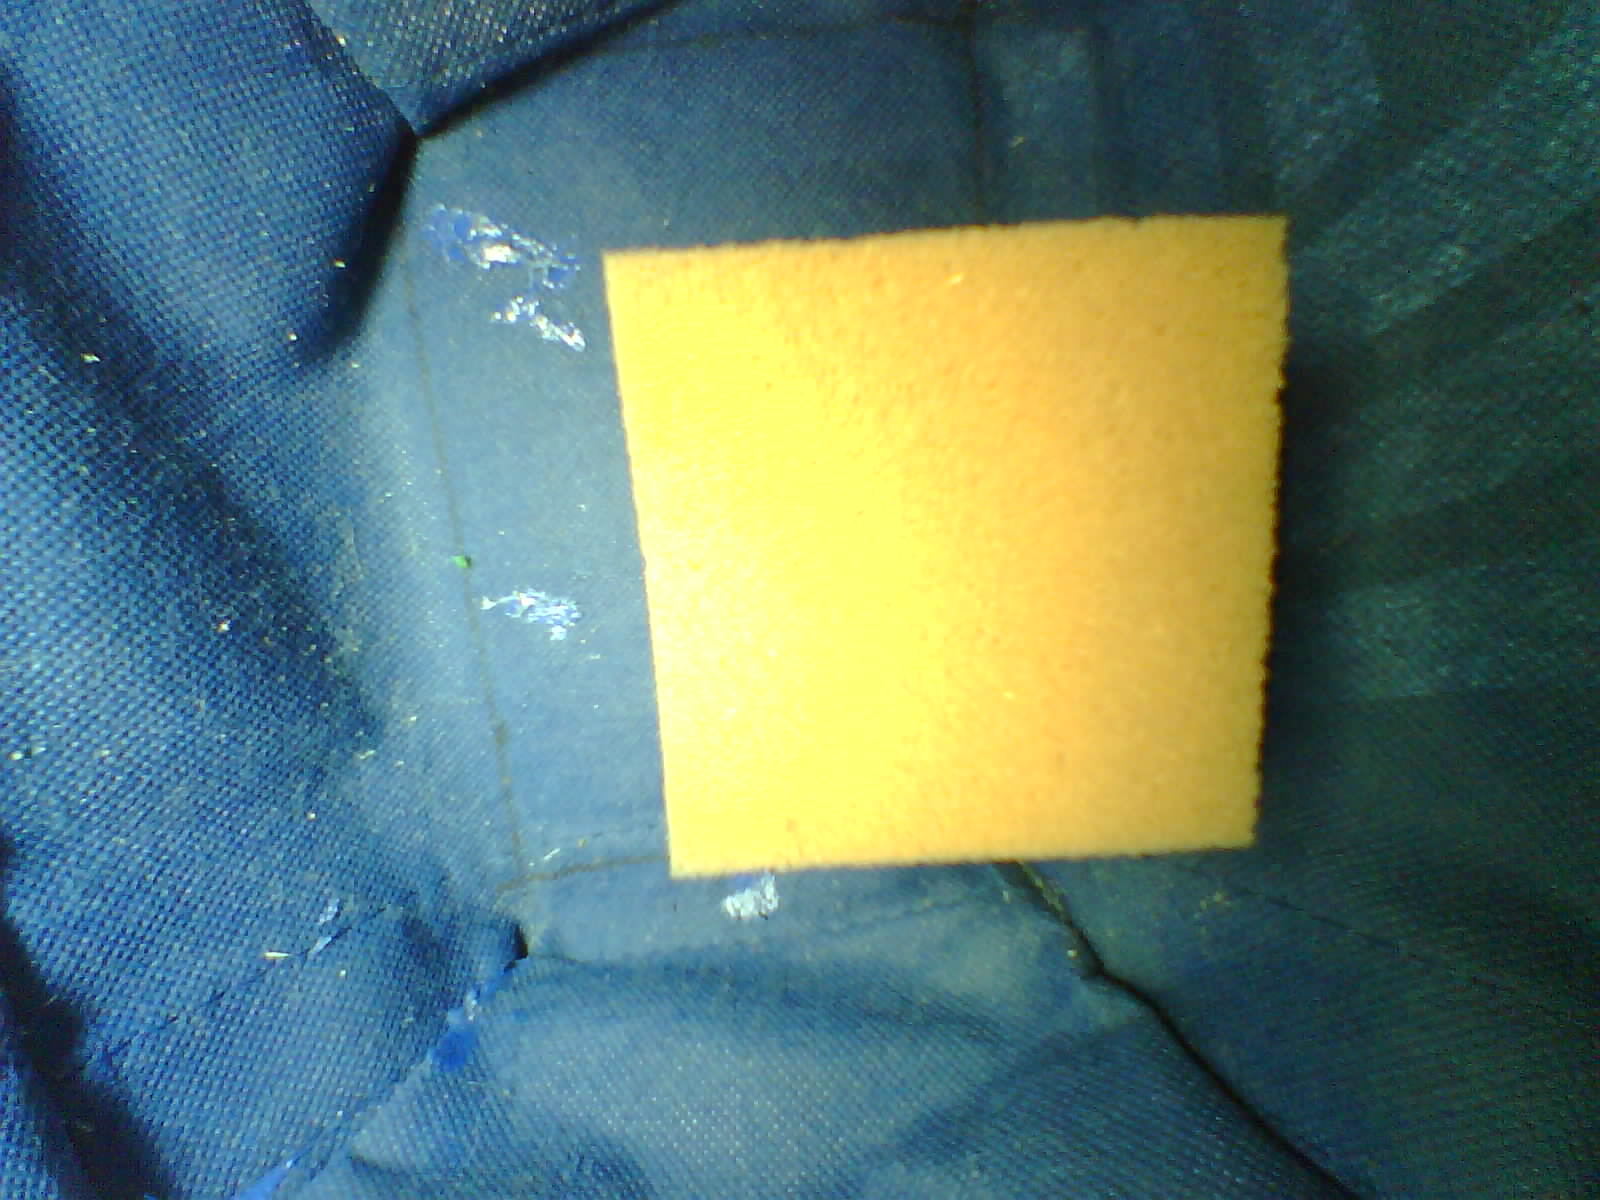cube-soft: (581, 188, 1303, 891)
